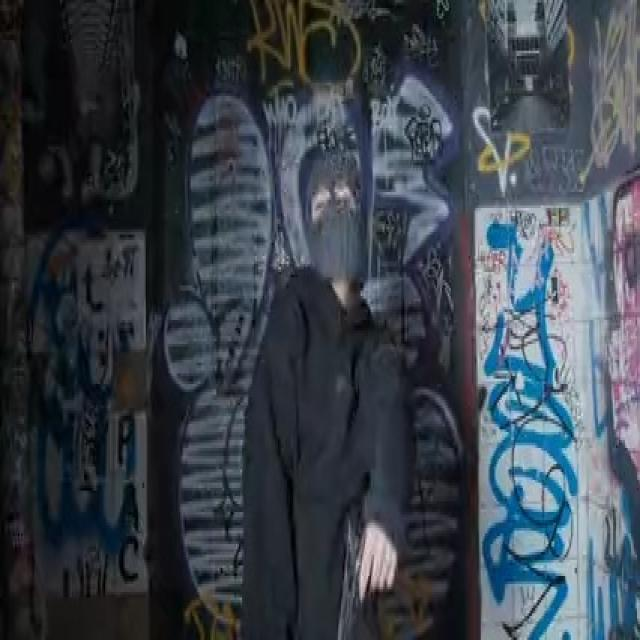Gun_Holder: (332, 515, 399, 640)
Person: (243, 135, 413, 638)
